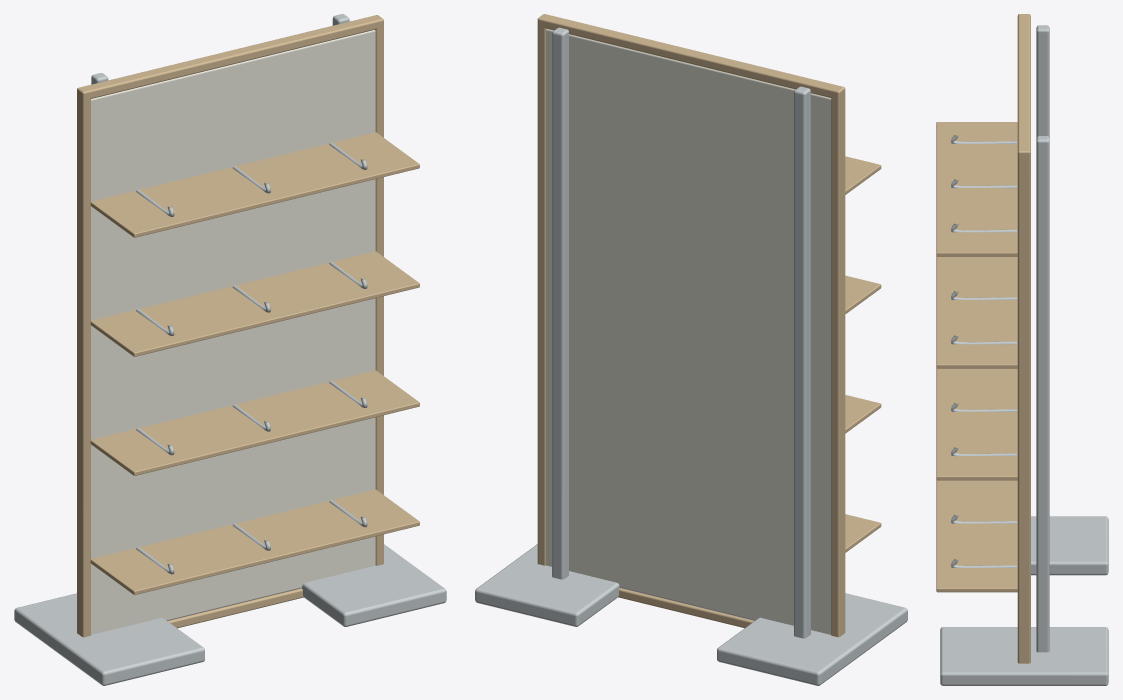
Rendered from tabletop-hobby-store-and-club-retail-peg-display-0d3d3918__31575.glb.
3 views of the same model, side by side, from view 1: azimuth 30°, elevation 25°; view 2: azimuth 150°, elevation 25°; view 3: azimuth 270°, elevation 25° (orthographic). The views are drawn at different scales.
Parts seen in each view (by area): view 1: retail-peg-display; view 2: retail-peg-display; view 3: retail-peg-display.
Boxes of the visible parts, x1,y1,x2,y2 form: retail-peg-display: (14,14,446,685); retail-peg-display: (475,14,907,685); retail-peg-display: (936,14,1108,685).
Bounding box in the file's own units: 1 × 1.55 × 0.46.
